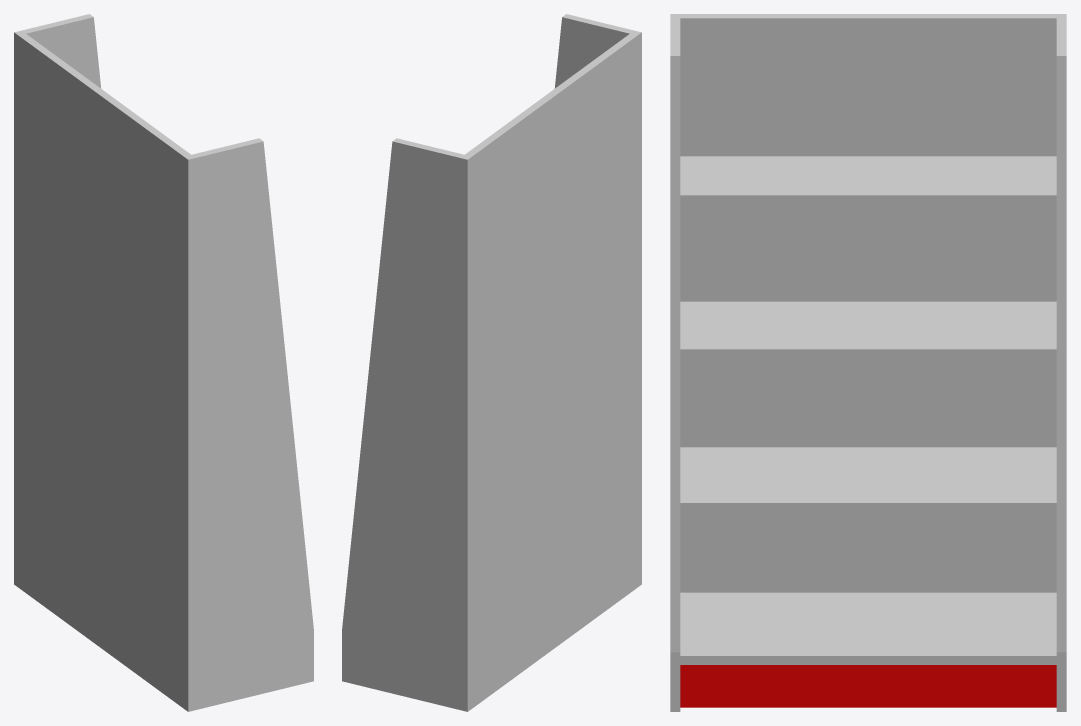
Rendered from Bomboniere 0,60.glb.
3 renders of one model, left to right at view 1: azimuth 30°, elevation 25°; view 2: azimuth 150°, elevation 25°; view 3: azimuth 270°, elevation 25°, orthographic. The views are drawn at different scales.
Parts seen in each view (by area): view 1: Geom3D_ (×3); view 2: Geom3D_ (×3); view 3: Geom3D_ (×7), Geom3D.
Part boxes in pixels (x1,y1,x2,y2): Geom3D_ (×3): [14, 14, 313, 711]; Geom3D_ (×3): [342, 14, 641, 711]; Geom3D_ (×7): [670, 14, 1066, 711]; Geom3D: [680, 665, 1056, 707].
Size of the model in its own units: 0.25 by 1.05 by 0.6.
